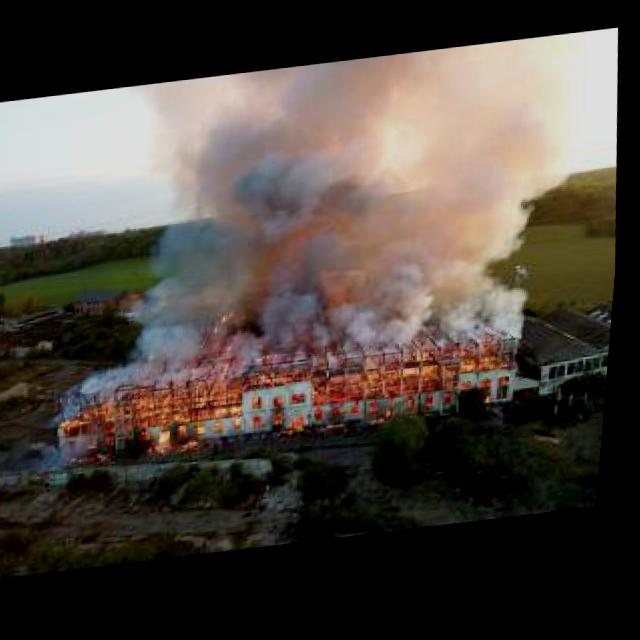helmet: (59, 348, 527, 466)
no_helmet: (112, 43, 564, 380)
